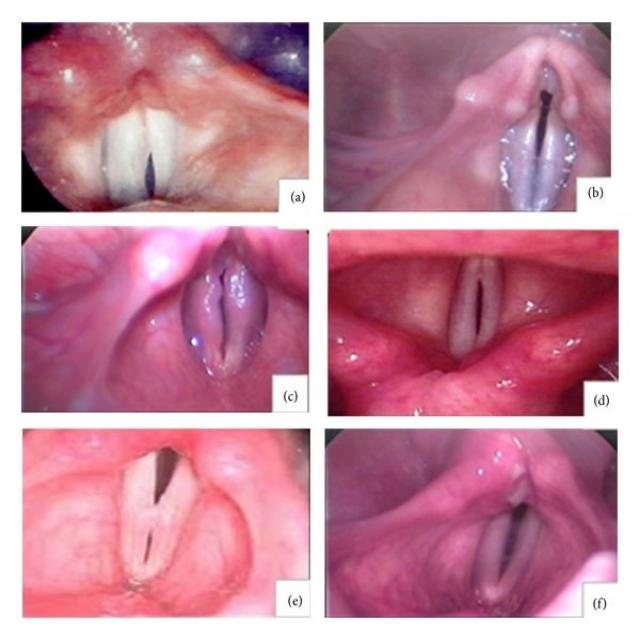arytenoid cartilagerotation: (328, 295, 616, 415), (22, 23, 306, 125), (357, 429, 613, 540), (21, 429, 298, 524), (433, 31, 610, 158), (108, 228, 308, 317)
epiglottisrotation: (328, 231, 616, 279)
larynxrotation: (493, 60, 582, 210), (114, 442, 202, 589), (177, 254, 269, 382), (98, 92, 187, 212), (464, 496, 547, 607), (441, 249, 509, 363)
